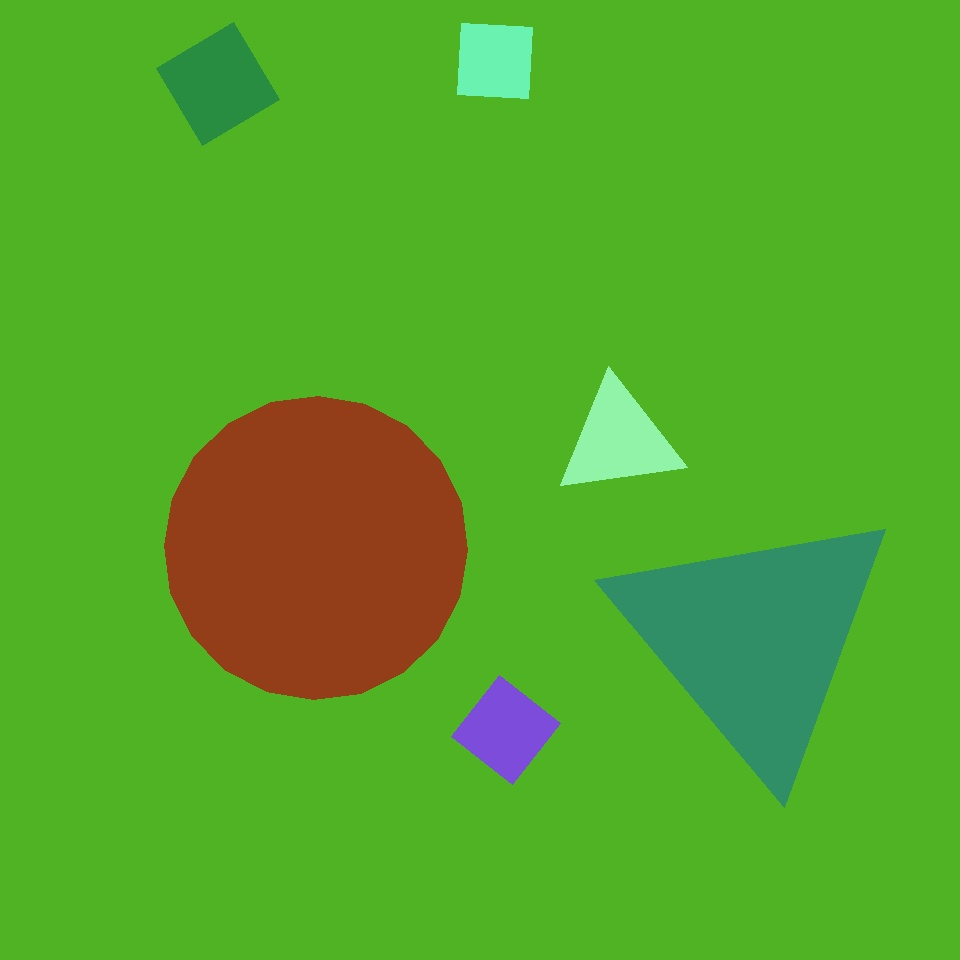circle: (261, 72, 557, 377), (610, 500, 900, 778), (472, 483, 741, 719), (556, 380, 682, 499)
square: (156, 22, 280, 146), (452, 676, 560, 784), (458, 23, 532, 98)
triangle: (164, 396, 467, 700), (704, 560, 940, 796), (414, 471, 585, 642)
